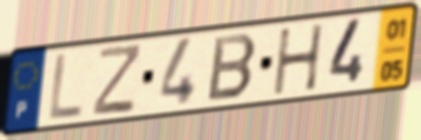4: (327, 14, 370, 91), (157, 35, 199, 112)
B: (204, 32, 260, 104)
H: (272, 21, 327, 99)
L: (46, 51, 85, 122)
Z: (90, 42, 144, 117)
